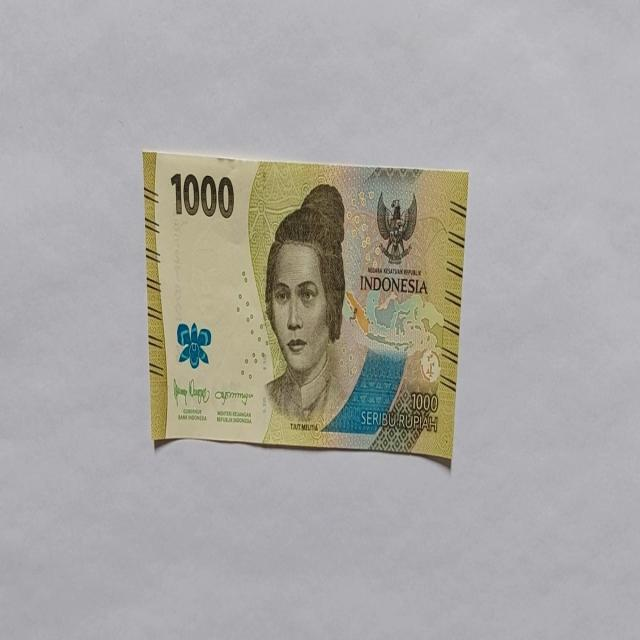seribu rupiah kertas: (142, 148, 468, 466)
